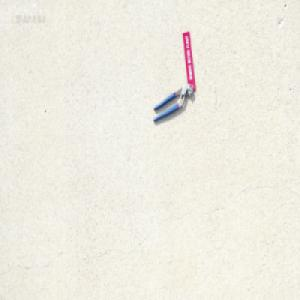Label: (181, 30, 197, 91)
Pliers: (152, 82, 194, 123)
